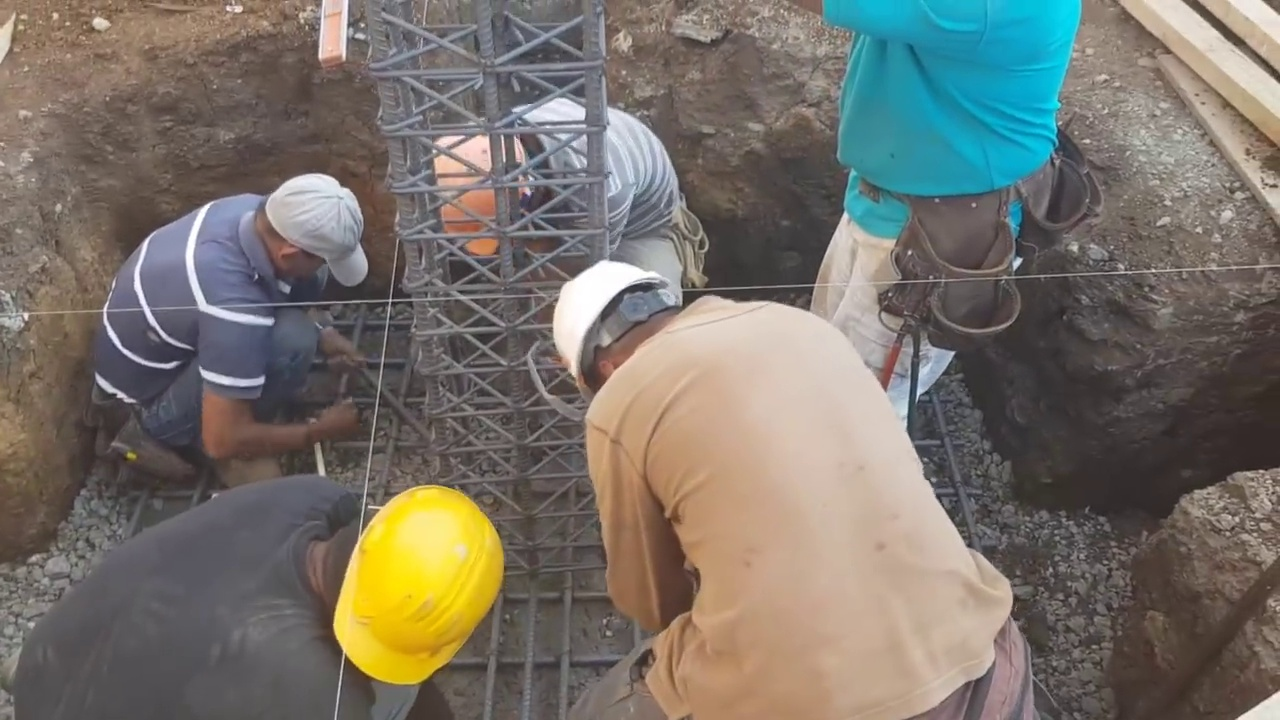helmet: (333, 486, 506, 687), (556, 260, 671, 402), (432, 133, 523, 258)
helmet-off: (251, 170, 362, 288)
helmet-on: (298, 483, 510, 689), (557, 257, 692, 403), (431, 120, 553, 262)
person: (554, 254, 1037, 720), (8, 473, 508, 720), (809, 0, 1078, 434), (90, 167, 368, 488), (429, 95, 707, 302)
